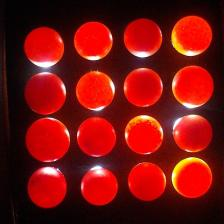fertile: (24, 72, 67, 116), (27, 166, 68, 210), (123, 18, 163, 58), (173, 114, 214, 153), (123, 68, 163, 107), (78, 117, 116, 158), (80, 166, 118, 206), (128, 162, 166, 201)
infertile: (24, 116, 71, 162), (172, 65, 214, 108), (171, 15, 213, 56), (172, 156, 212, 199), (24, 26, 64, 67), (124, 114, 164, 155), (75, 72, 115, 111), (74, 21, 113, 60)
